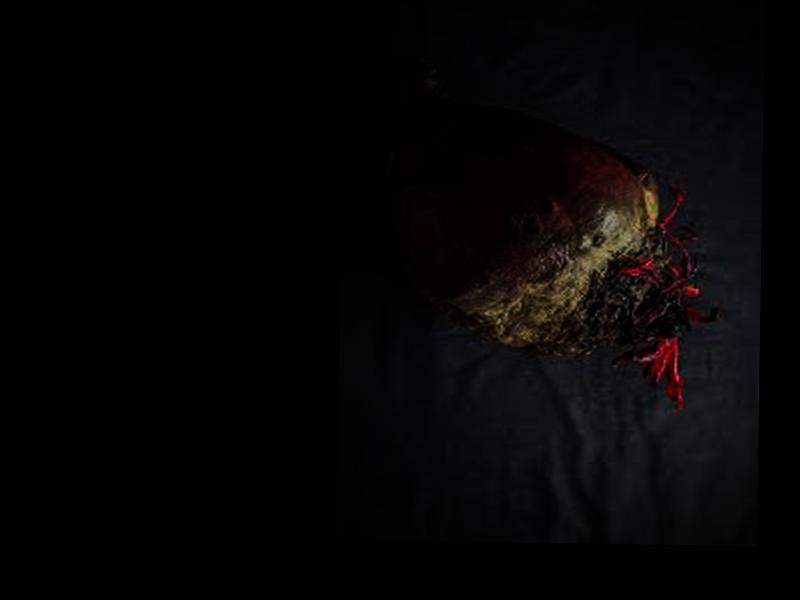Beet: (384, 55, 722, 408)
